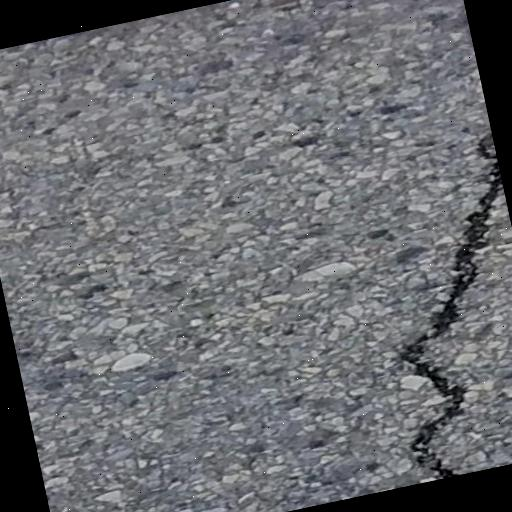spalling: (378, 115, 507, 484)
